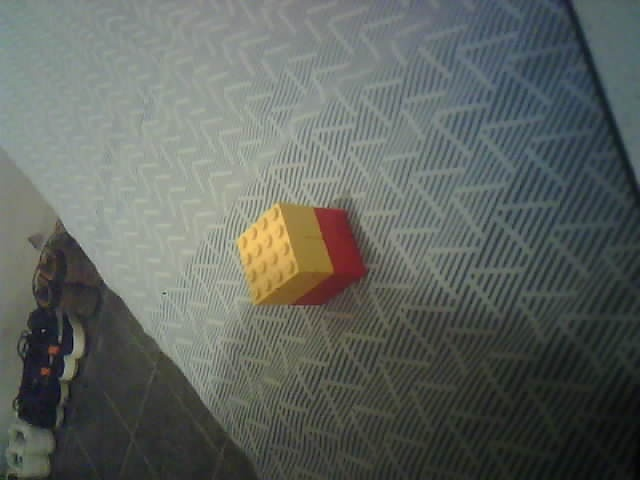lego: (234, 202, 368, 306)
